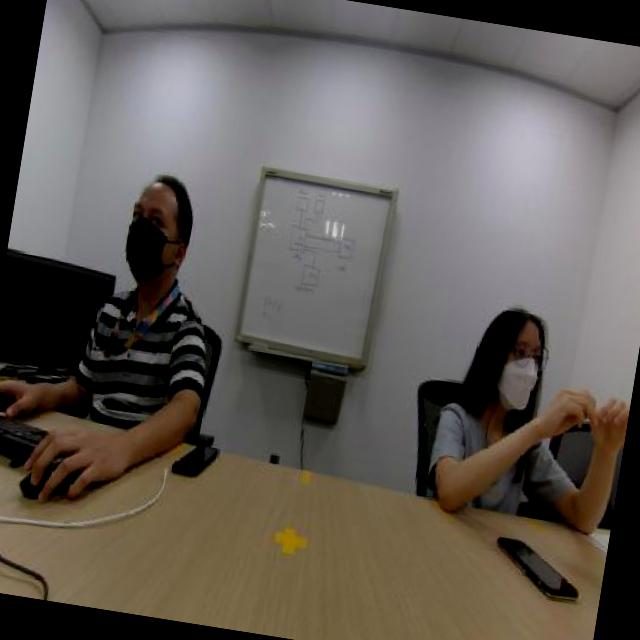Person: (420, 262, 640, 521), (78, 143, 247, 438)
